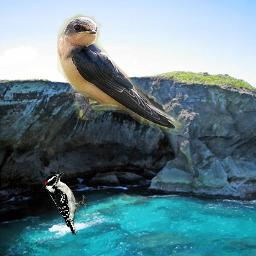Swallow: (57, 10, 188, 135)
Woodpecker: (44, 172, 90, 235)
